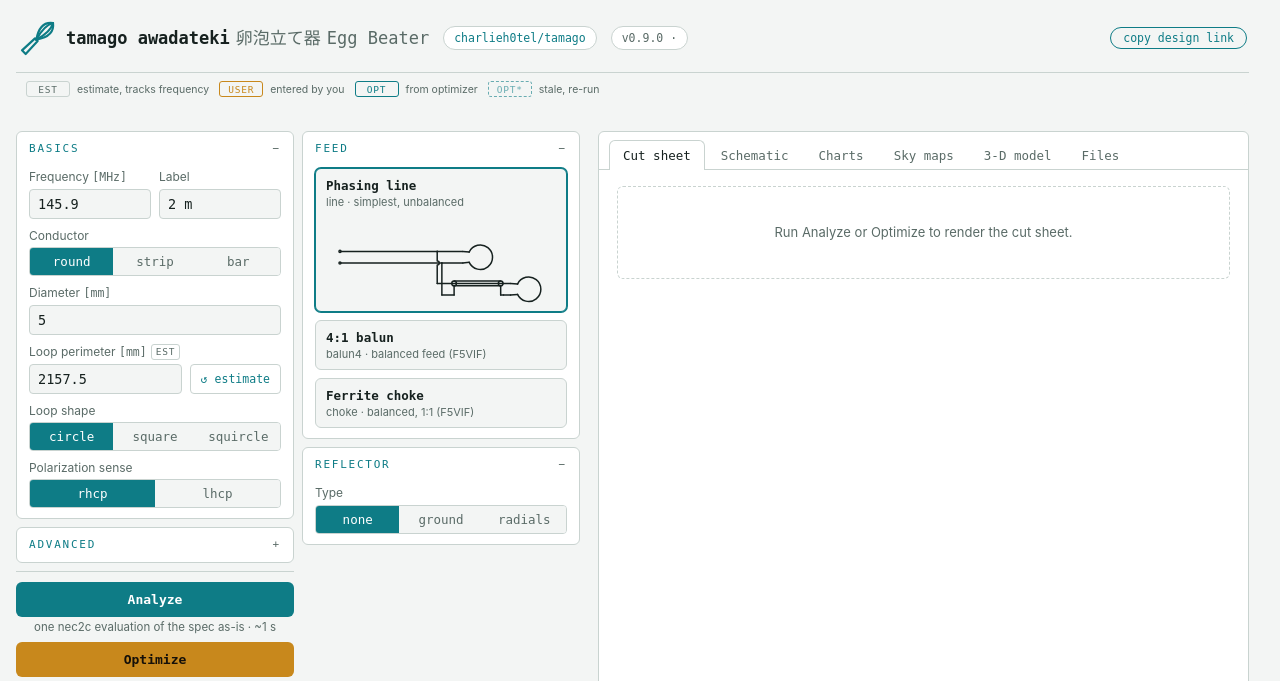
Test: report snapshot › reports the analyzed design and warns about unapplied edits
Click the button "Analyze" at (155, 600), box [16, 582, 294, 617]
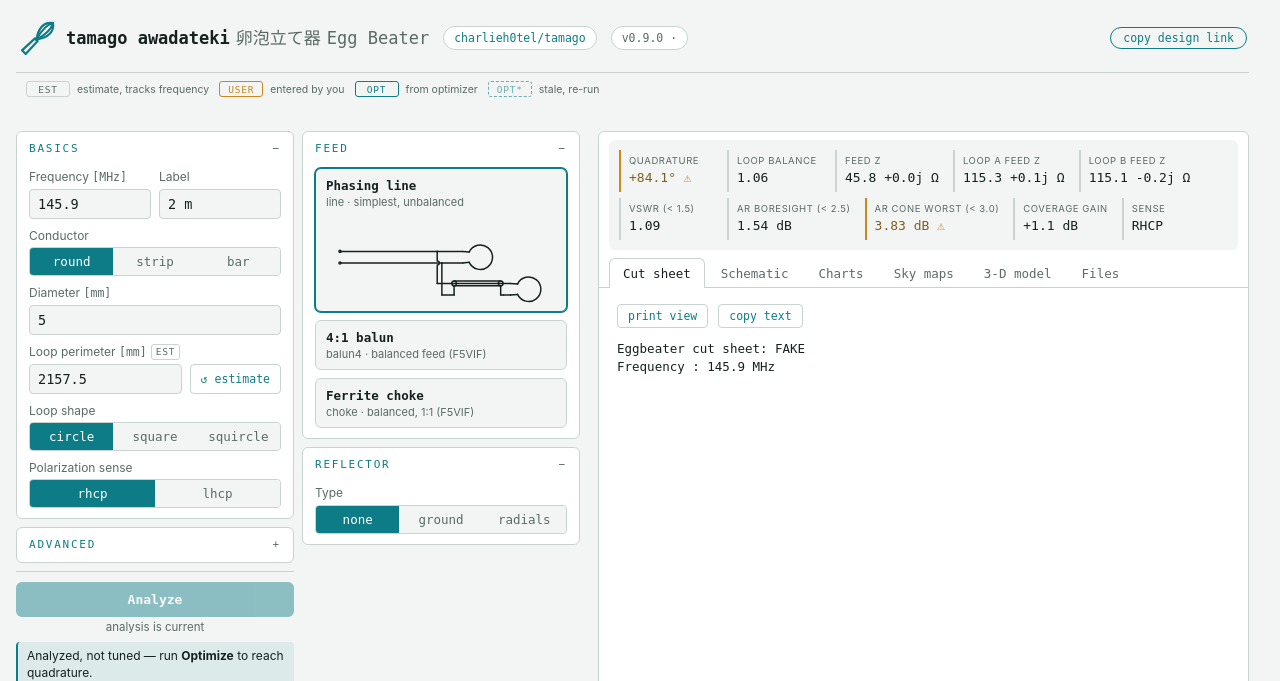
Expected: the text "Eggbeater cut sheet: FAKE Frequency : 145.9 MHz" is shown, [617, 340, 805, 374]
Replace the text in the number field with id "freq" with "200" at (90, 204), box [29, 189, 151, 219]
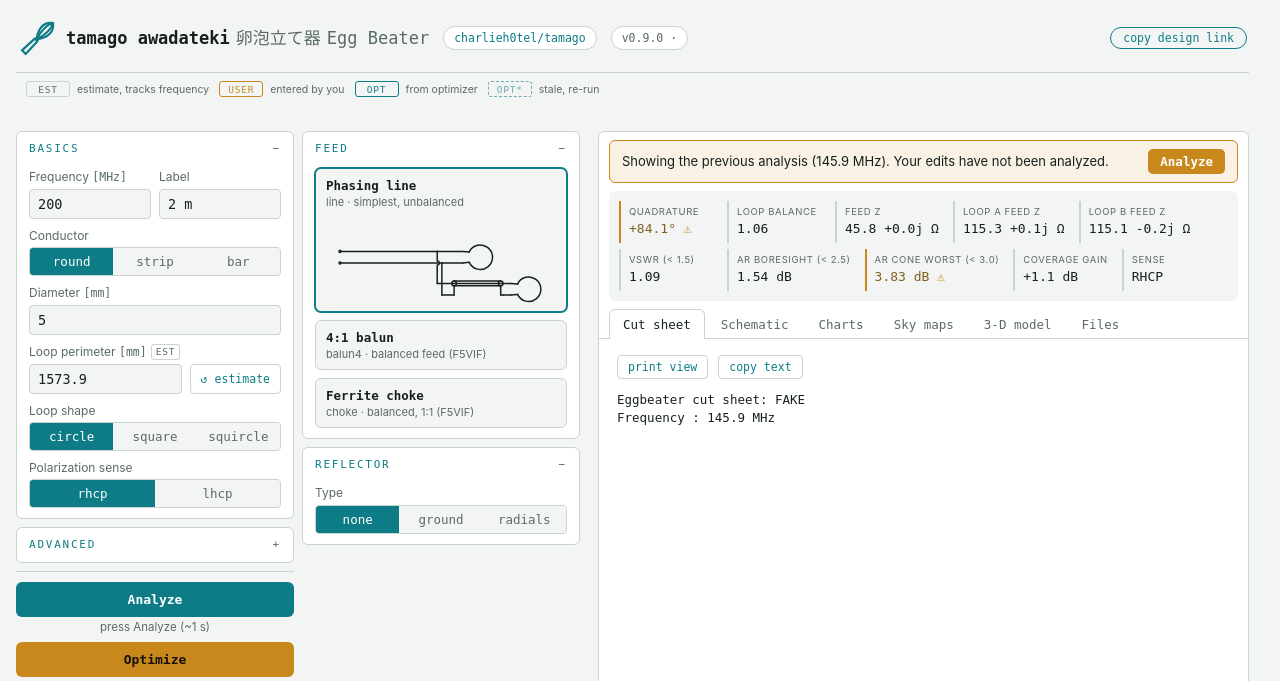
Click the button "print view" at (663, 366), box [617, 354, 708, 378]
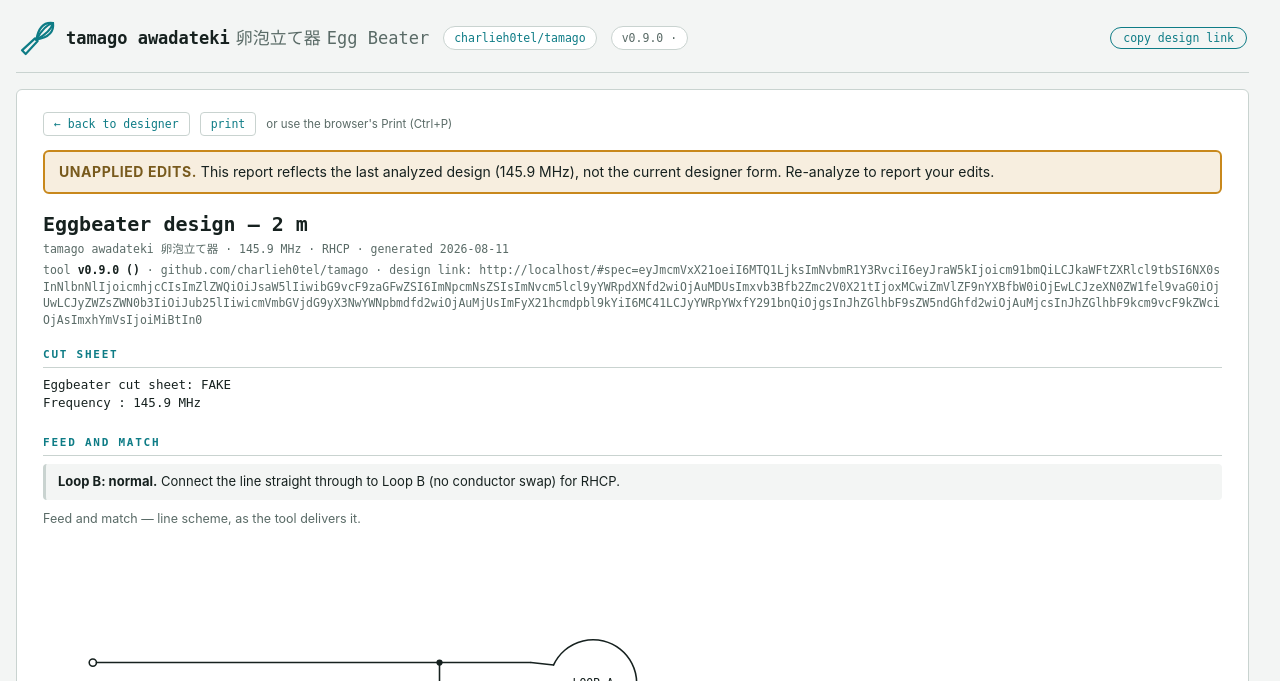
Expected: the element with class "rmeta" shows "145.9 MHz", [43, 242, 509, 256]
Expected: the message with class "report-warn" is shown, [43, 150, 1222, 194]
